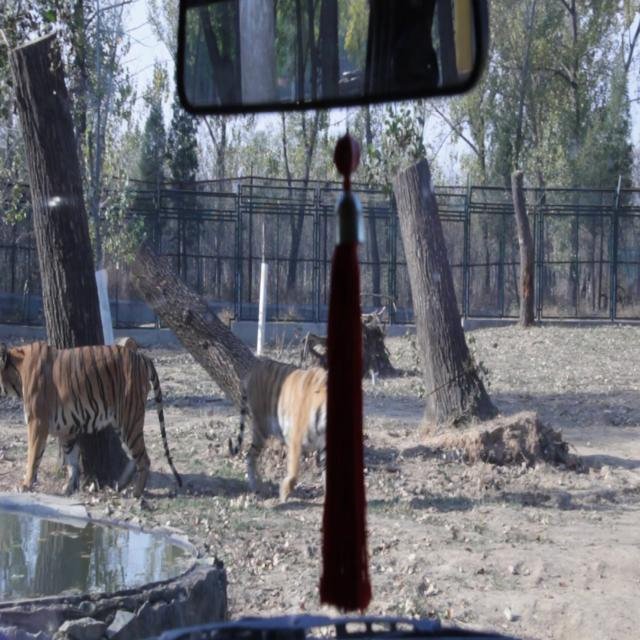Tiger: (0, 326, 184, 497), (229, 346, 331, 498)
